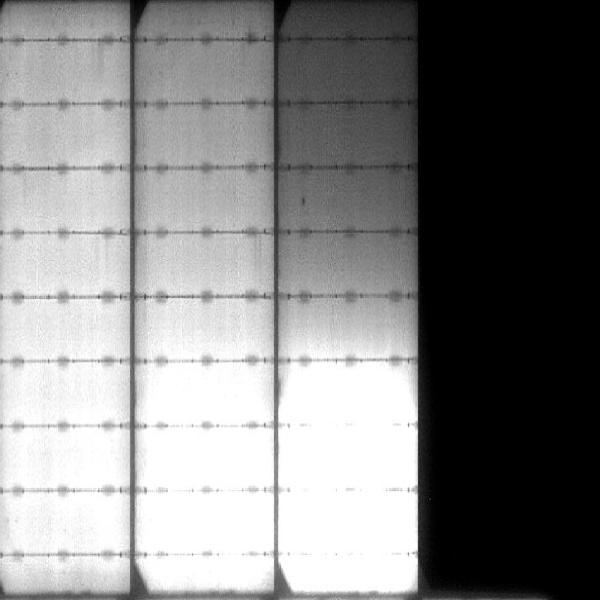hot_spot: (138, 493, 273, 550), (285, 432, 415, 487), (285, 496, 416, 549), (142, 432, 267, 484), (285, 373, 411, 423), (6, 432, 124, 482), (158, 370, 261, 421), (11, 503, 124, 546), (292, 558, 416, 589), (148, 561, 269, 589)
no_electricity: (416, 4, 600, 593)
